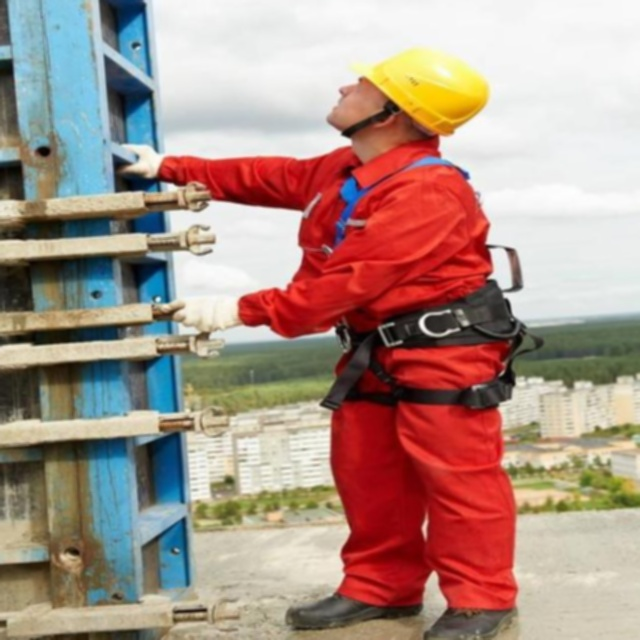Con_Casco: (309, 42, 496, 152)
